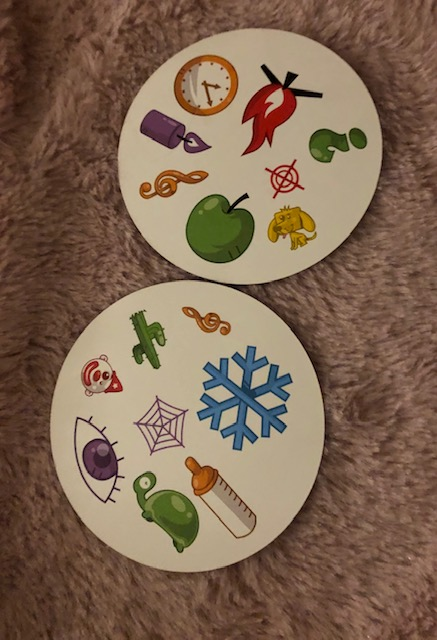biberon: (180, 453, 259, 540)
bougie: (137, 110, 209, 155)
cactus: (125, 307, 170, 374)
chien: (261, 203, 318, 251)
cible: (260, 156, 304, 201)
clown: (77, 353, 124, 399)
feu: (236, 63, 321, 156)
flocon: (195, 341, 297, 452)
horloge: (171, 51, 239, 117)
note: (137, 164, 212, 200), (177, 305, 234, 340)
oeuil: (70, 414, 128, 508)
point_interrogation: (305, 122, 369, 168)
pomme: (179, 190, 261, 266)
toile: (133, 391, 190, 455)
tortue: (133, 467, 202, 556)
